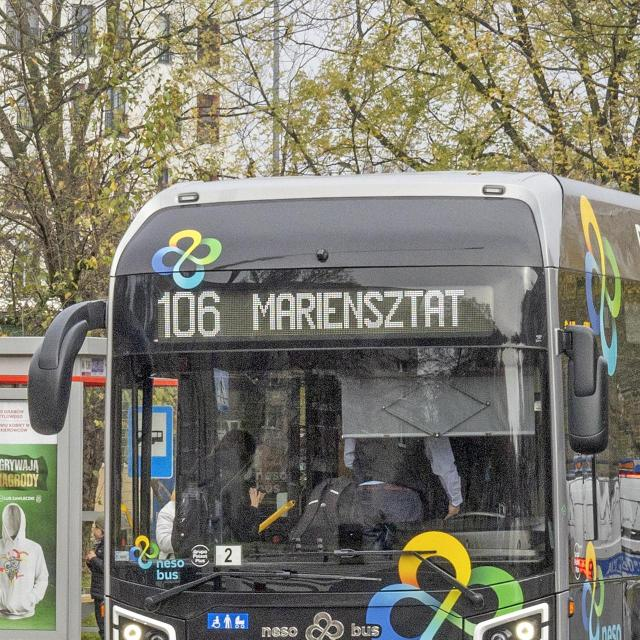Bus: (30, 171, 640, 640)
